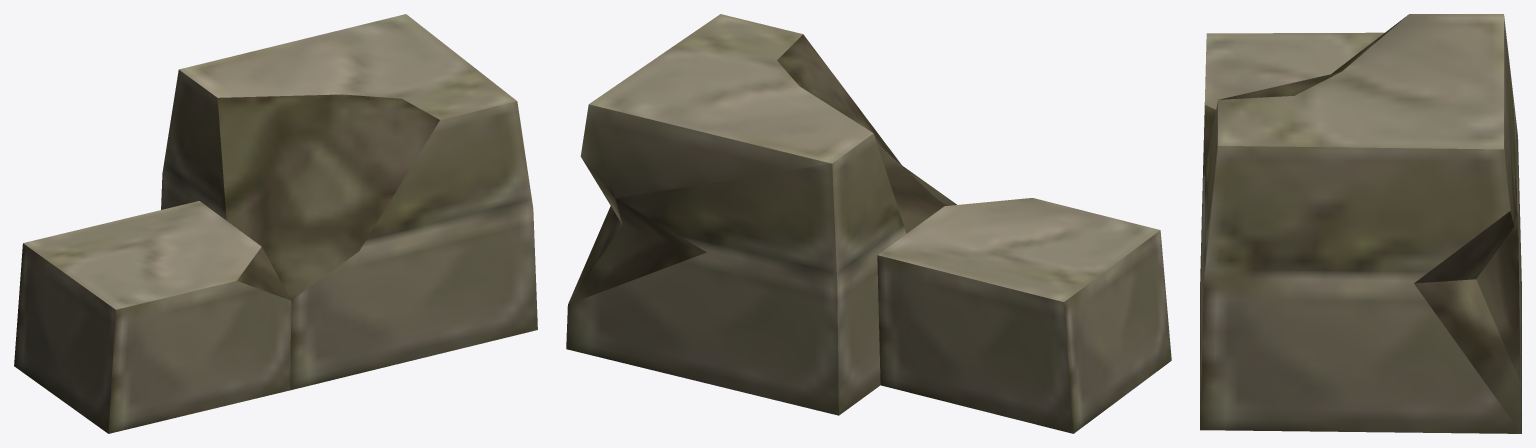
File: DN_tushuguan_qiang_d.FBX
The picture shows the model from 3 angles, left to right: view 1: azimuth 30°, elevation 25°; view 2: azimuth 150°, elevation 25°; view 3: azimuth 270°, elevation 25°; orthographic projection. The views are drawn at different scales.
Parts seen in each view (by area): view 1: DN_tushuguan_qiang_d; view 2: DN_tushuguan_qiang_d; view 3: DN_tushuguan_qiang_d.
Part boxes in pixels (x1,y1,x2,y2): DN_tushuguan_qiang_d: (14, 14, 537, 433); DN_tushuguan_qiang_d: (566, 14, 1171, 433); DN_tushuguan_qiang_d: (1200, 14, 1521, 433).
Bounding box in the file's own units: 94.87 × 47.18 × 49.69.
